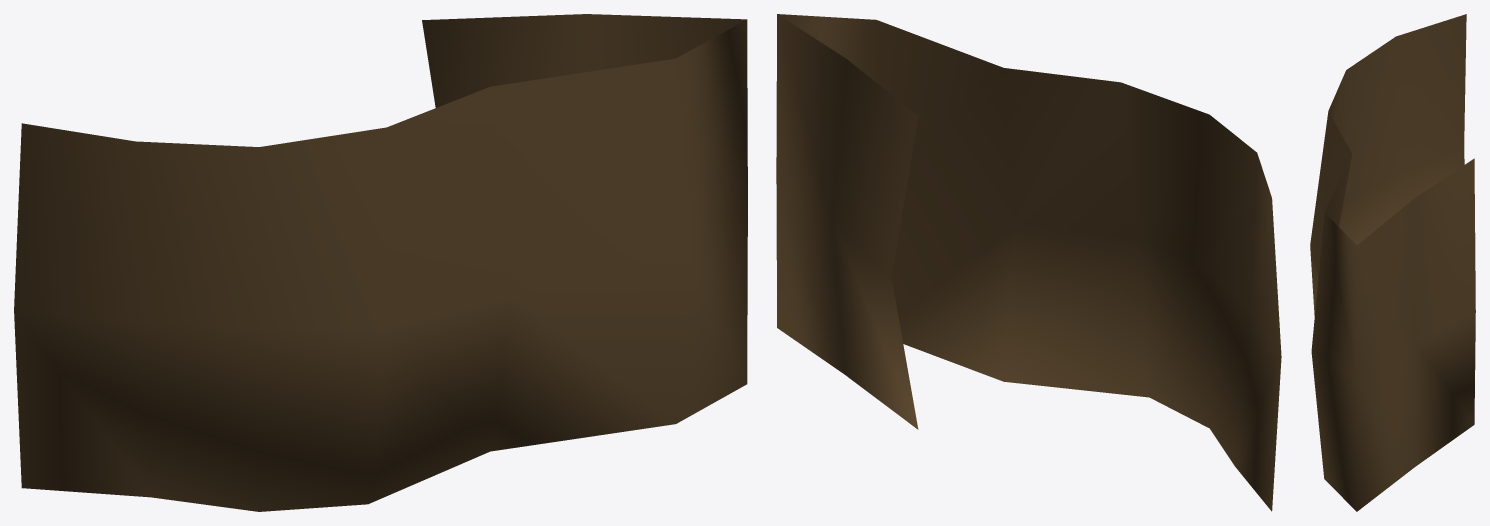
Rendered from SWORDLIGHT20_PS-AREA03_113.fbx.
3 views of the same model, side by side, from view 1: azimuth 30°, elevation 25°; view 2: azimuth 150°, elevation 25°; view 3: azimuth 270°, elevation 25° (orthographic). The views are drawn at different scales.
Visible parts, largest first — view 1: SWORDLIGHT20_PS-AREA03_113; view 2: SWORDLIGHT20_PS-AREA03_113; view 3: SWORDLIGHT20_PS-AREA03_113.
Part boxes in pixels (x1,y1,x2,y2): SWORDLIGHT20_PS-AREA03_113: (14,14,747,511); SWORDLIGHT20_PS-AREA03_113: (776,14,1281,511); SWORDLIGHT20_PS-AREA03_113: (1310,14,1475,511).
Bounding box in the file's own units: 195405 × 105234 × 58142.
Materials: 2 (2 with a texture image).
